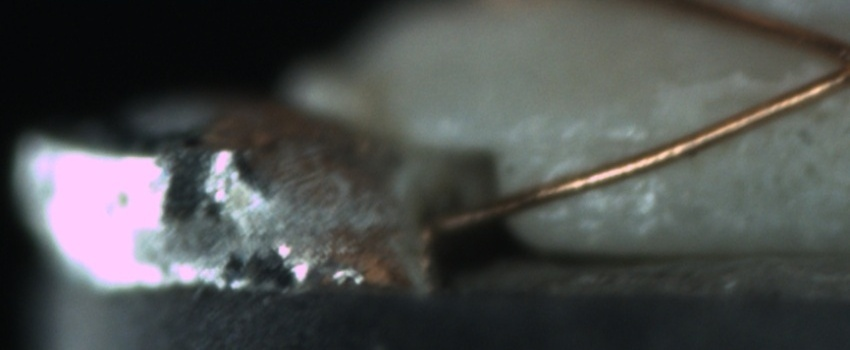CL: (805, 23, 850, 95)
